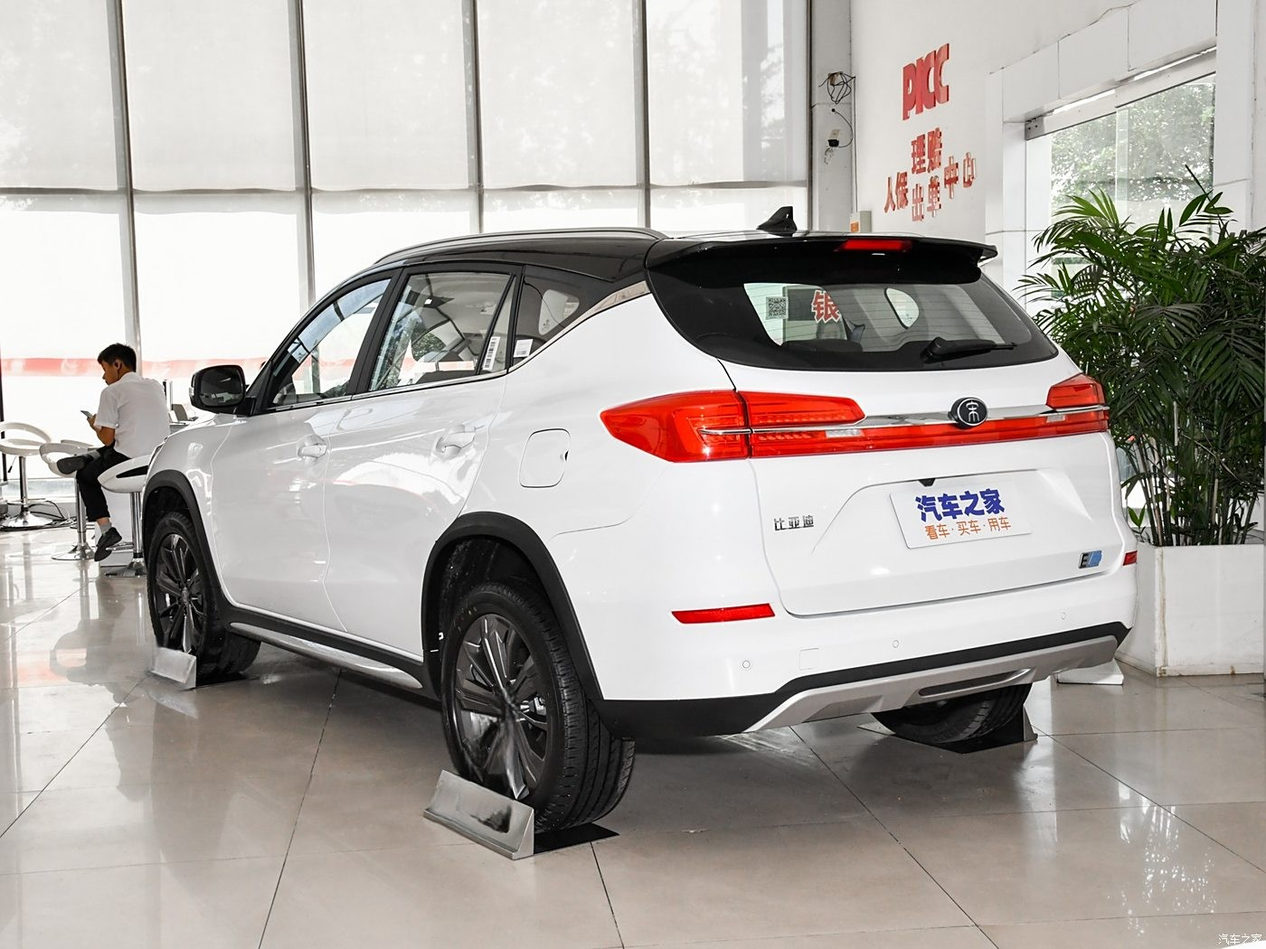BYD Song: (954, 398, 987, 426)
